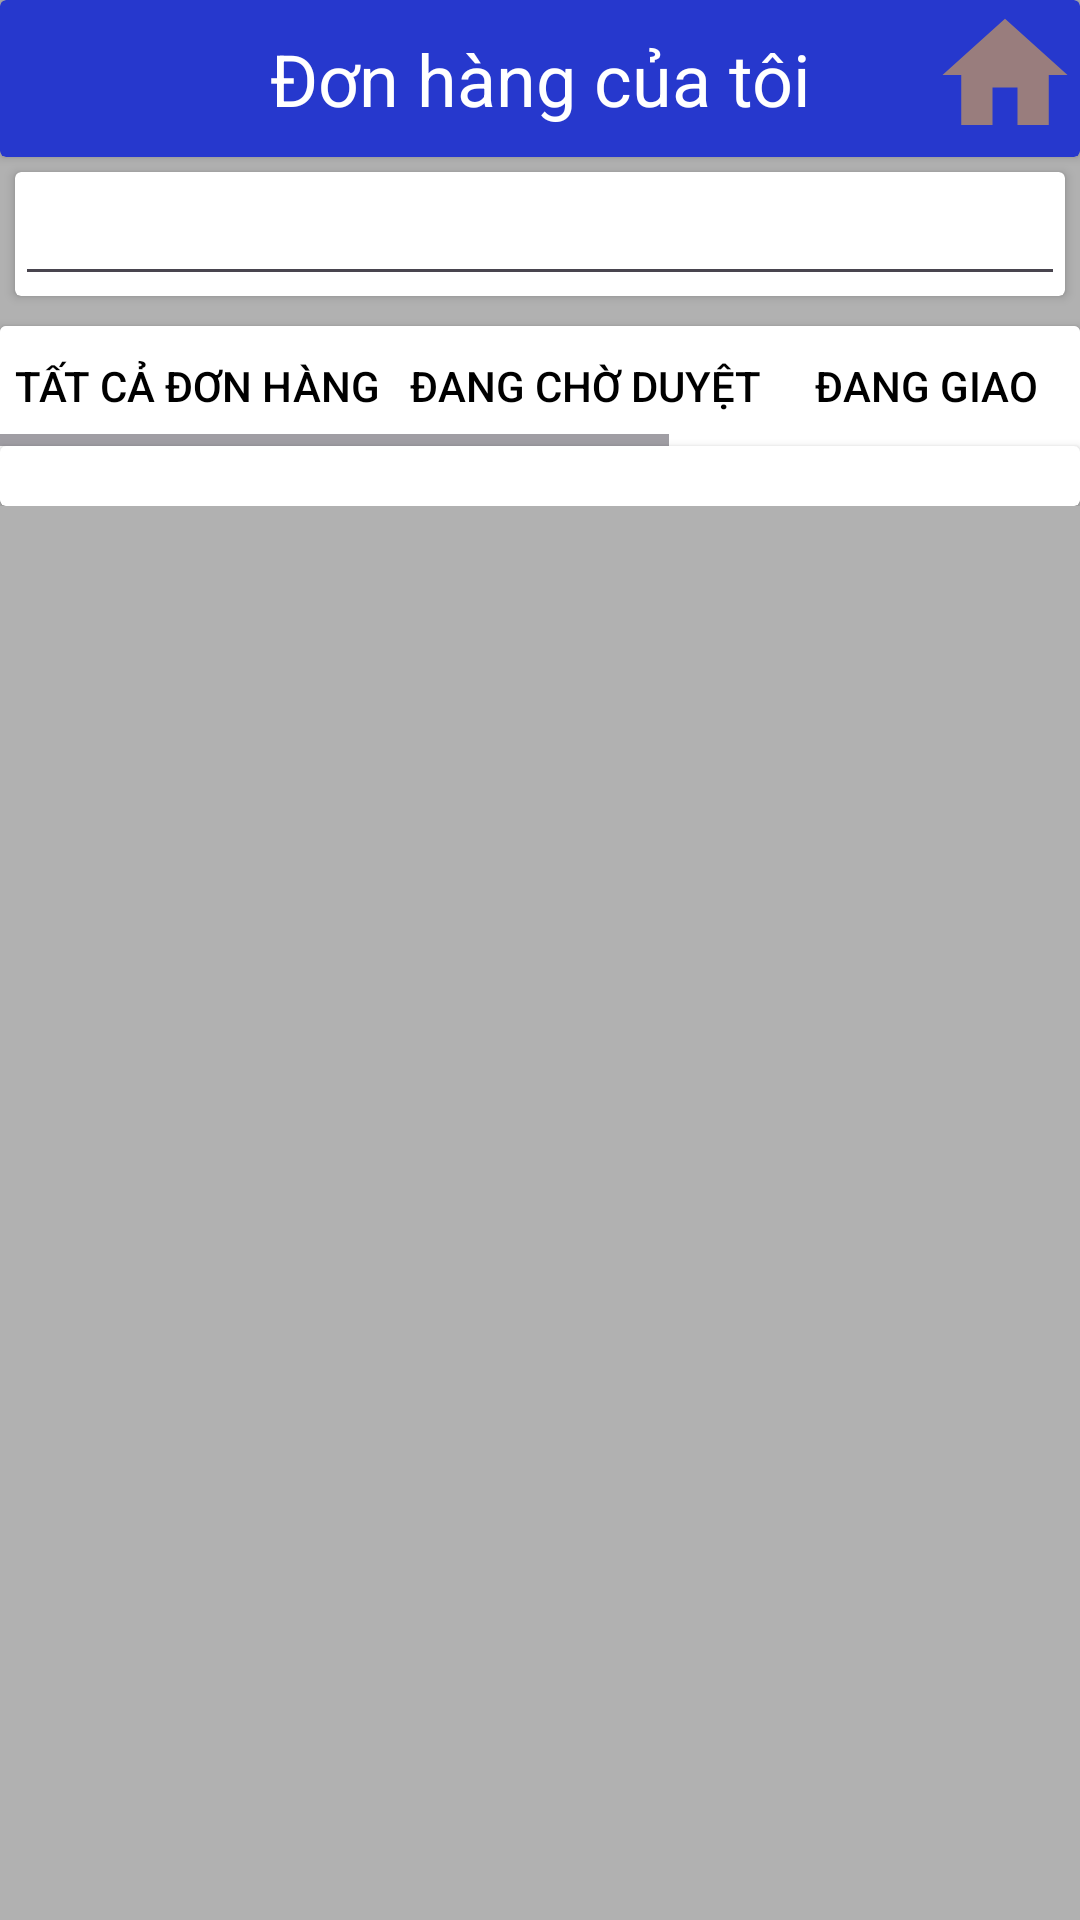

Named icons in this screenshot (1080 x 1920) and their centers, (x=x, y=y):
home: (x=1011, y=62)
